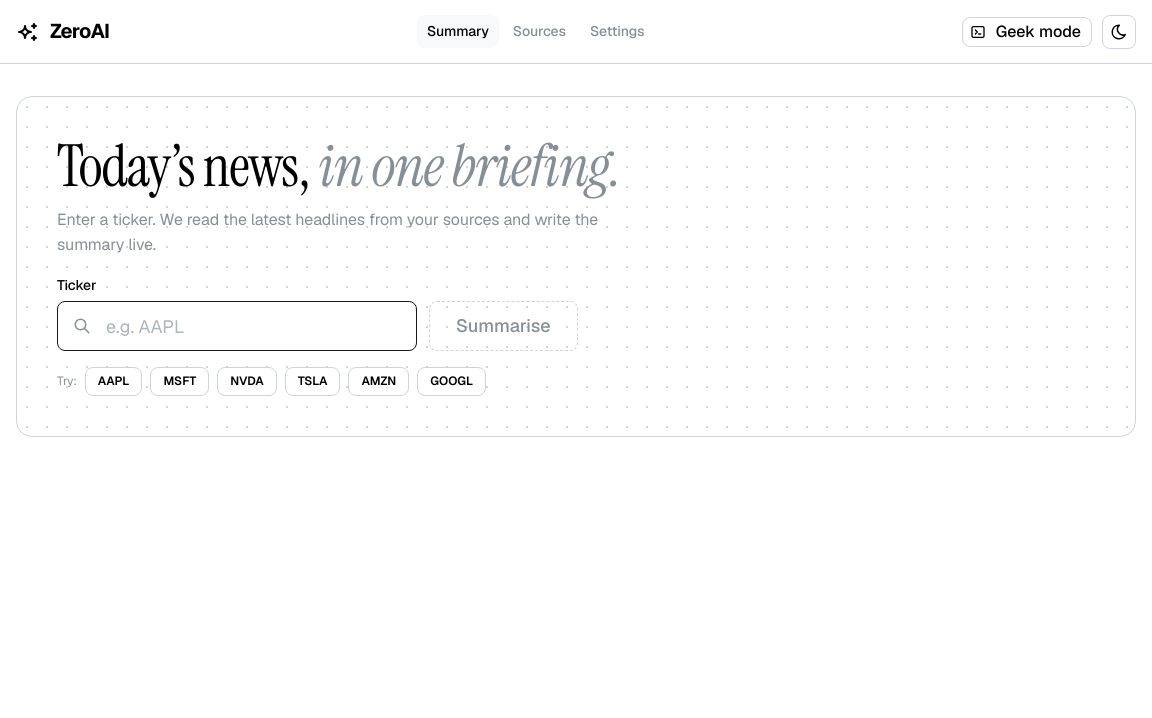
Test: navigates between the summary and sources pages
Expected: the field labelled "Ticker" is shown, [57, 301, 417, 351]
Click the link "Sources".
click(539, 31)  # box [513, 22, 566, 40]
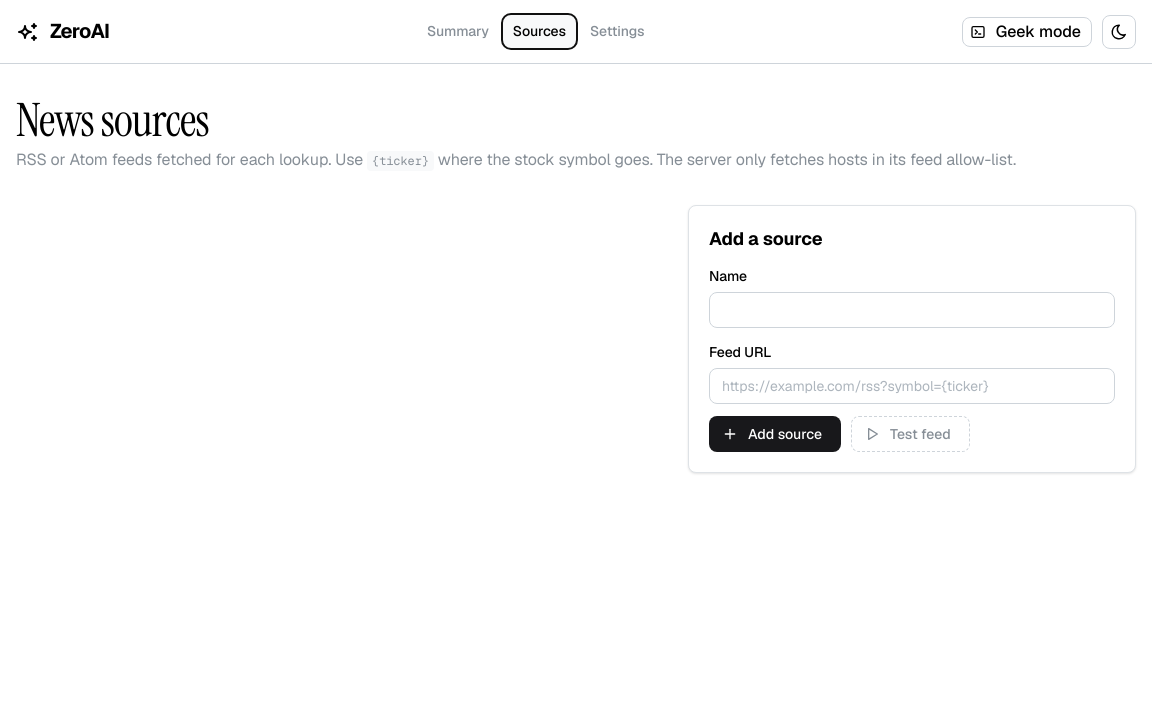
Now the heading "News sources" is shown, box [16, 90, 209, 150]
Click the link "Settings".
click(617, 31)  # box [590, 22, 645, 40]
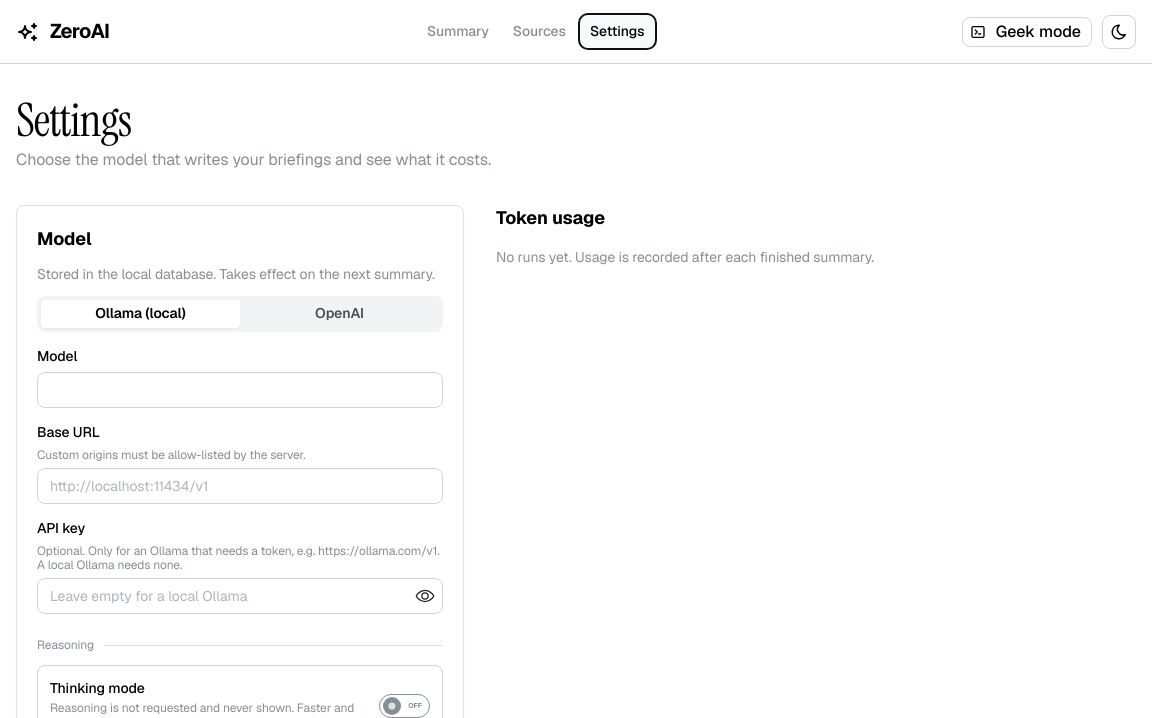
Now the heading "Settings" is shown, box [16, 90, 131, 150]
Click the link "Summary".
click(458, 31)  # box [427, 22, 489, 40]
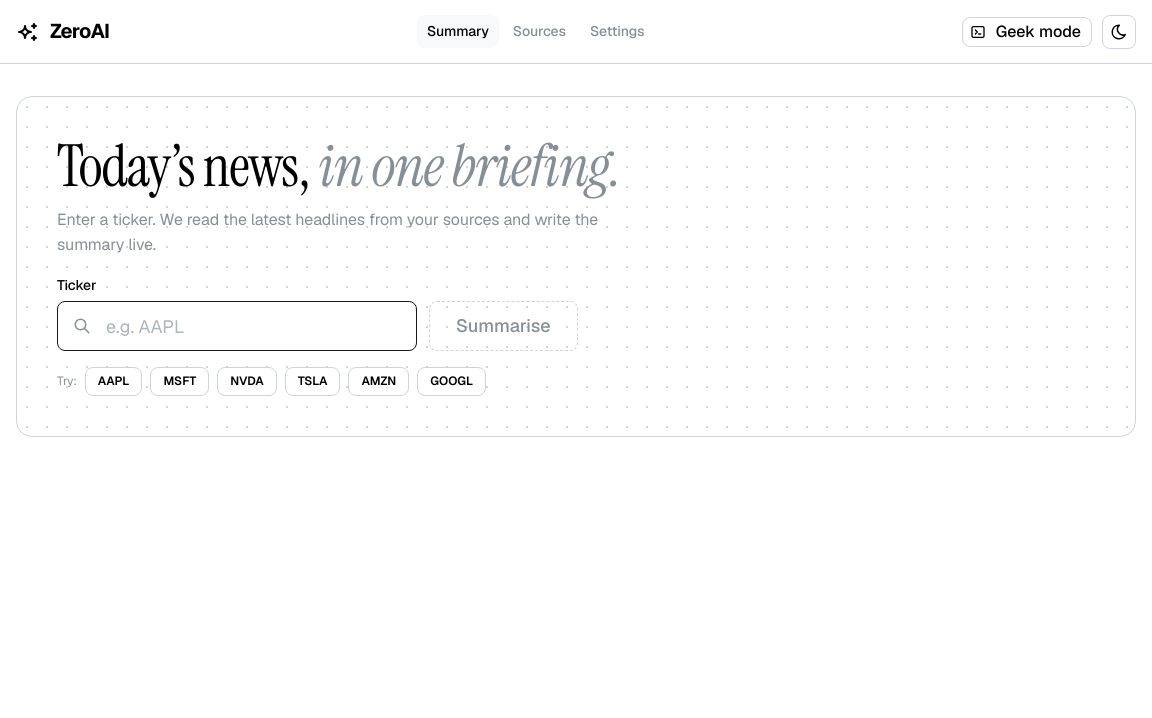
Now the field labelled "Ticker" is shown, box [57, 301, 417, 351]
